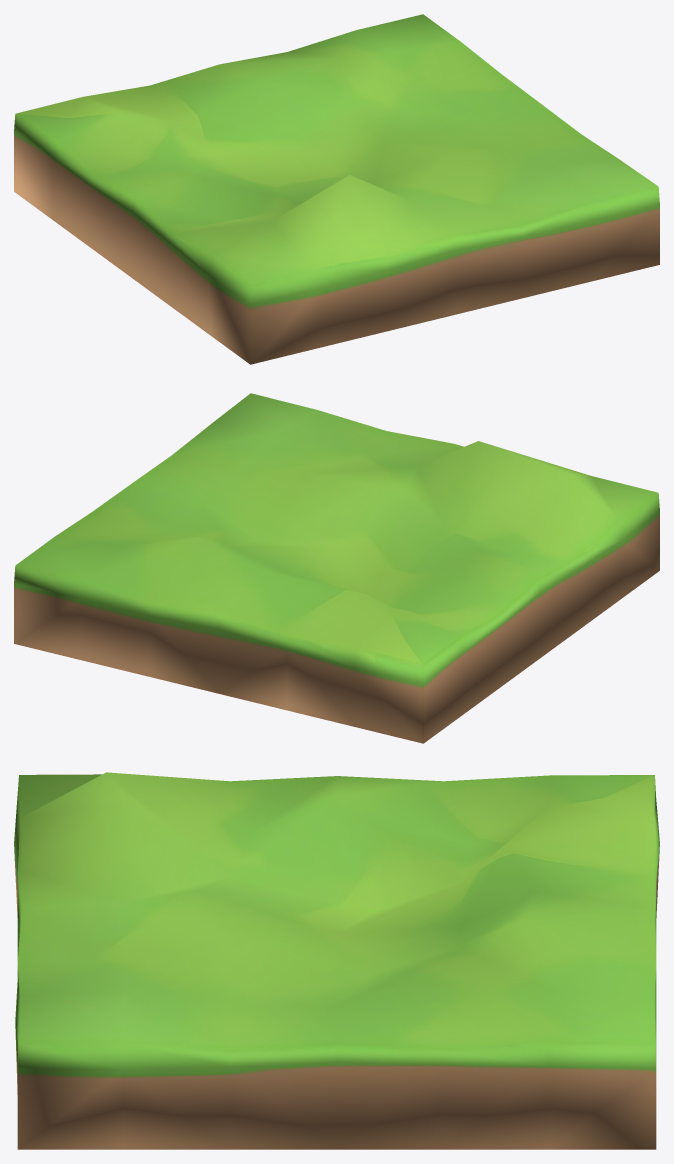
The model's file is selected.glb.
3 views of the same model, one above another, from view 1: azimuth 30°, elevation 25°; view 2: azimuth 150°, elevation 25°; view 3: azimuth 270°, elevation 25° (orthographic). The views are drawn at different scales.
Visible parts, largest first — view 1: tripo_node_ee37b64b-9464-4aea-b474-8db8287a84bf; view 2: tripo_node_ee37b64b-9464-4aea-b474-8db8287a84bf; view 3: tripo_node_ee37b64b-9464-4aea-b474-8db8287a84bf.
Part boxes in pixels (bbox=[...]): tripo_node_ee37b64b-9464-4aea-b474-8db8287a84bf: bbox=[14, 14, 659, 364]; tripo_node_ee37b64b-9464-4aea-b474-8db8287a84bf: bbox=[14, 393, 659, 743]; tripo_node_ee37b64b-9464-4aea-b474-8db8287a84bf: bbox=[14, 772, 659, 1149].
Bounding box in the file's own units: 0.998 × 0.3027 × 0.998.
1 material, 1 textured.
